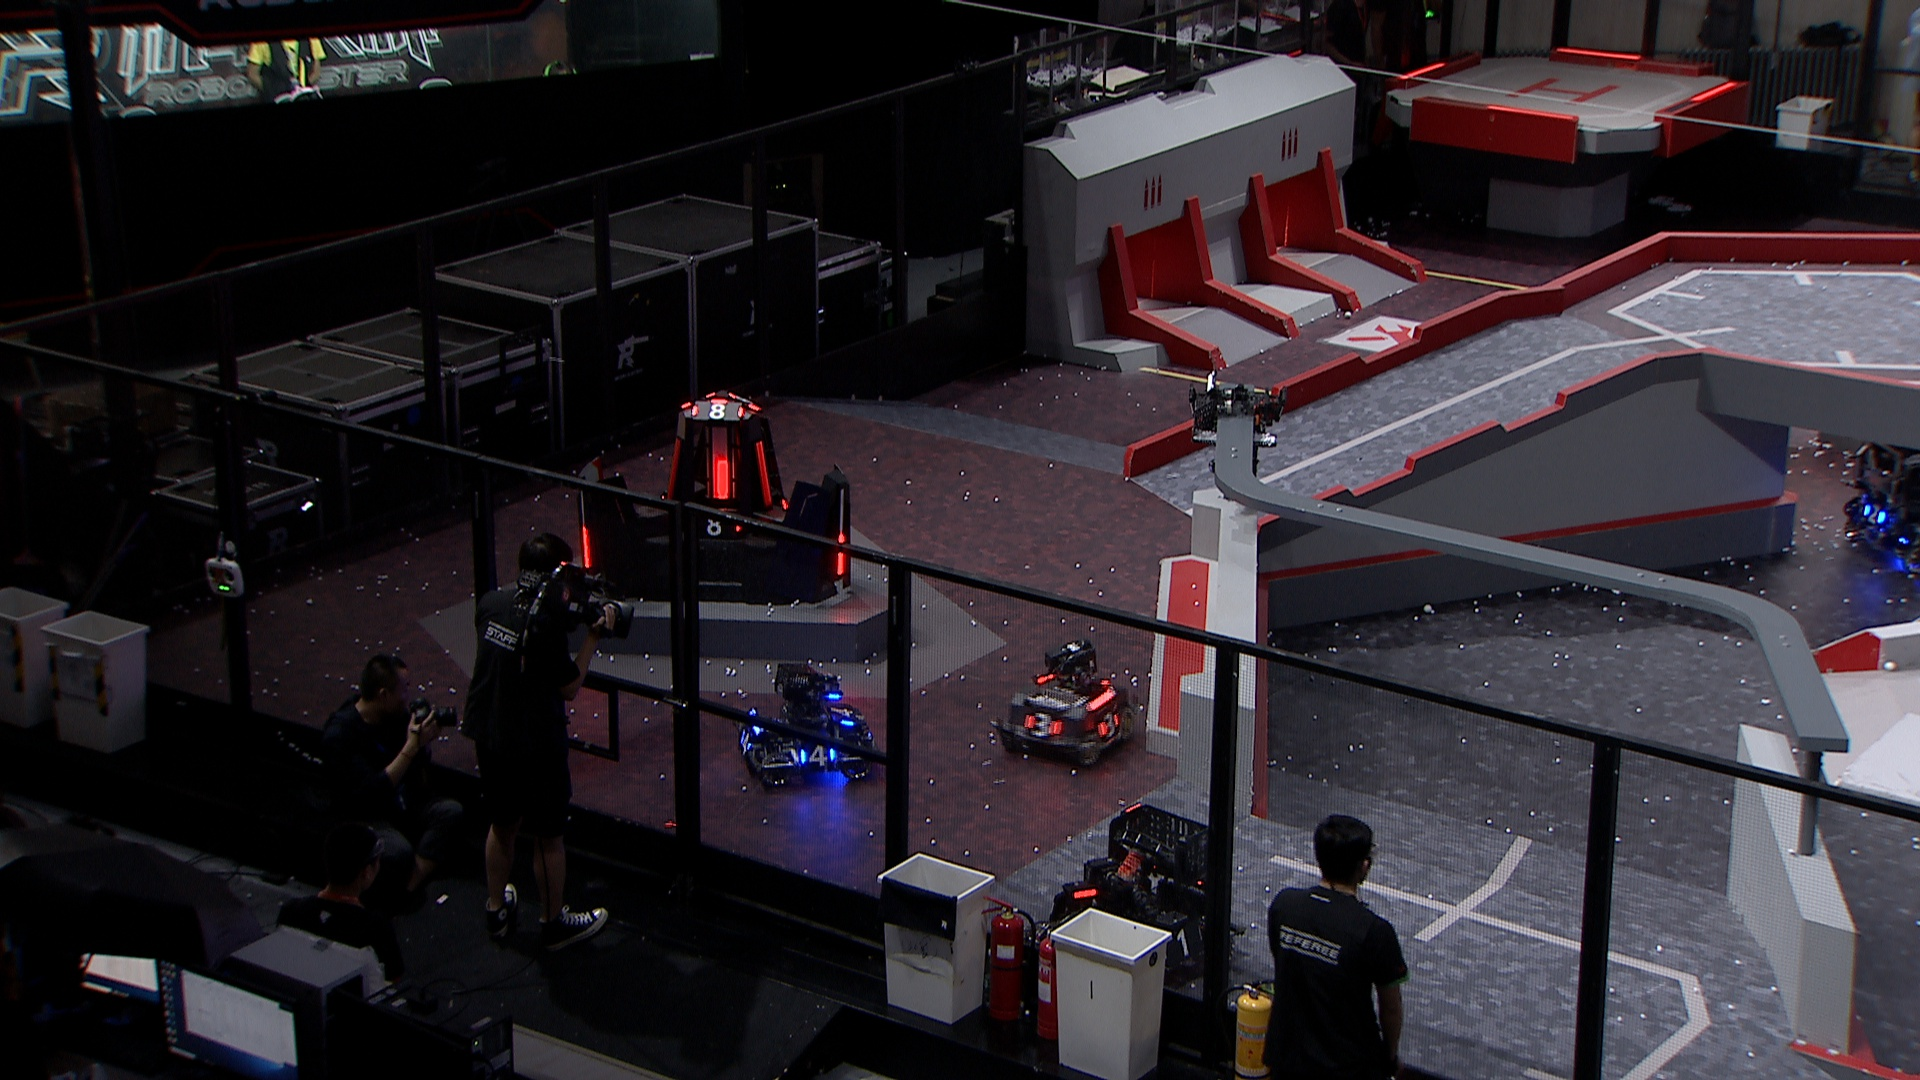armor: (752, 439, 774, 505), (1167, 922, 1204, 957), (665, 434, 680, 502), (690, 516, 738, 537), (688, 401, 742, 419), (711, 455, 732, 500), (1025, 712, 1060, 738), (796, 745, 835, 767), (1859, 500, 1887, 527), (828, 702, 856, 728), (1097, 713, 1121, 741), (835, 531, 849, 576), (735, 727, 756, 756), (580, 524, 591, 571)
base: (576, 389, 855, 609)
car: (1048, 798, 1238, 993), (731, 655, 880, 785), (994, 637, 1135, 769), (1837, 429, 1920, 585)
watcher: (1188, 367, 1288, 479)
